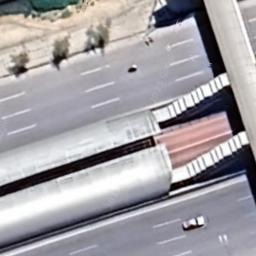sedan: (182, 214, 208, 232)
